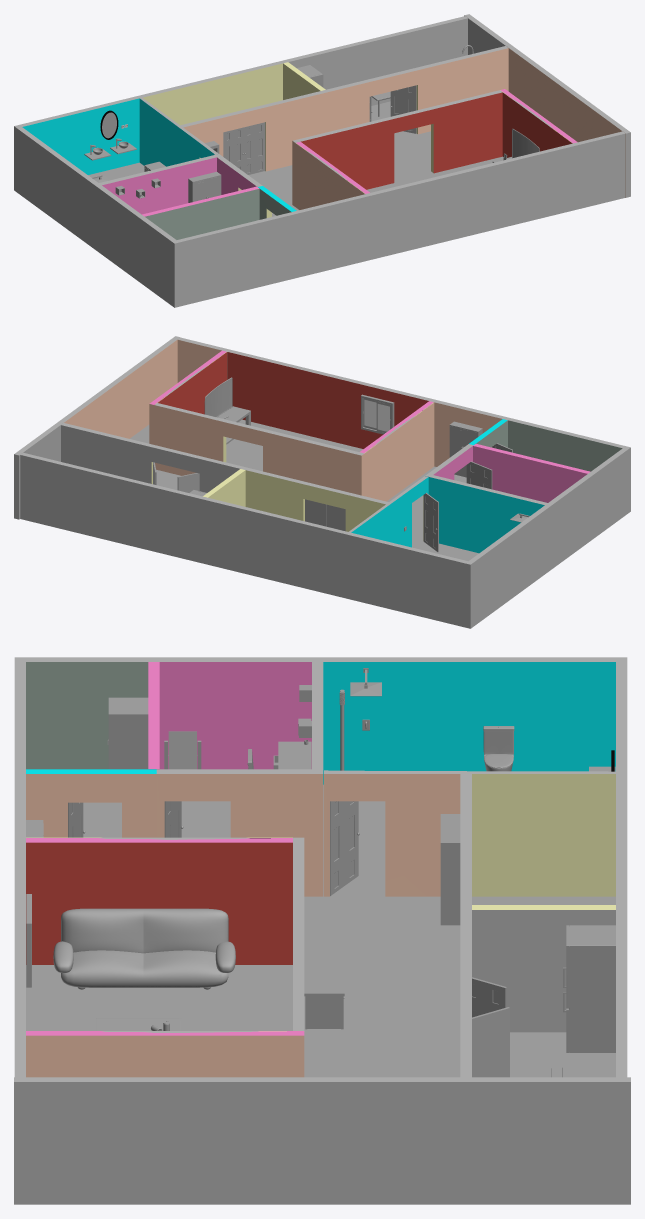
Rendered from Casa.fbx.
The picture shows the model from 3 angles, top to bottom: view 1: azimuth 30°, elevation 25°; view 2: azimuth 150°, elevation 25°; view 3: azimuth 270°, elevation 25°; orthographic projection. The views are drawn at different scales.
Visible parts, largest first — view 1: pCube13, pCube12, pCube16, pCube14, pCube18, pCube15, pPlane1, pCube25, pCube24, pCube45, pCube19, pCube20 (+9 smaller); view 2: pCube12, pCube13, pCube14, pCube16, pCube18, pCube15, pCube24, pCube19, pCube25, pPlane1, pCube20, pCube45 (+11 smaller); view 3: pCube15, pCube14, pPlane1, pCube45, pCube19, Sofa, pCube20, pCube26, pCube23, pCube22, Nevera, pCube13 (+15 smaller).
Boxes of the visible parts, x1,y1,x2,y2 form: pCube13: (177,131,625,306); pCube12: (19,16,467,174); pCube16: (180,46,508,171); pCube14: (14,125,179,307); pCube18: (292,90,502,206); pCube15: (464,14,630,197); pPlane1: (88,101,503,216); pCube25: (142,186,259,239); pCube24: (99,155,216,214); pCube45: (139,97,218,166); pCube19: (295,141,369,209); pCube20: (500,89,577,157); pCube12: (20,452,467,627); pCube13: (177,337,625,471); pCube14: (465,446,630,628); pCube16: (61,423,390,531); pCube18: (154,403,364,496); pCube15: (14,336,180,519); pCube24: (430,475,547,553); pCube19: (360,401,434,501); pCube25: (473,444,590,502); pPlane1: (130,419,478,561); pCube20: (149,350,227,444); pCube45: (349,476,428,547); pCube15: (14,1077,630,1204); pCube14: (14,657,627,784); pPlane1: (26,784,615,1077); pCube45: (324,770,615,896); pCube19: (26,837,292,964); Sofa: (53,908,235,989); pCube20: (26,1031,304,1077); pCube26: (472,905,615,1032); pCube23: (156,769,323,896); pCube22: (26,769,156,837); Nevera: (563,925,615,1052); pCube13: (14,662,25,1077).
Size of the model in its own units: 39.73 by 5.38 by 24.39.
